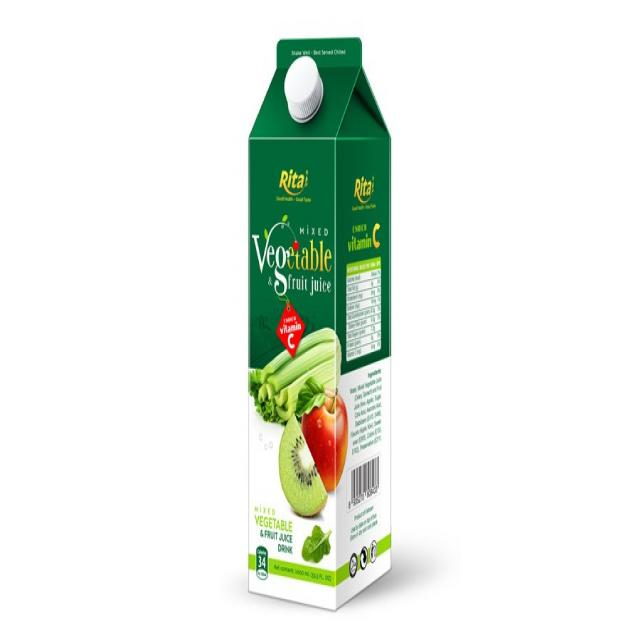non_white_jug: (231, 5, 403, 611)
